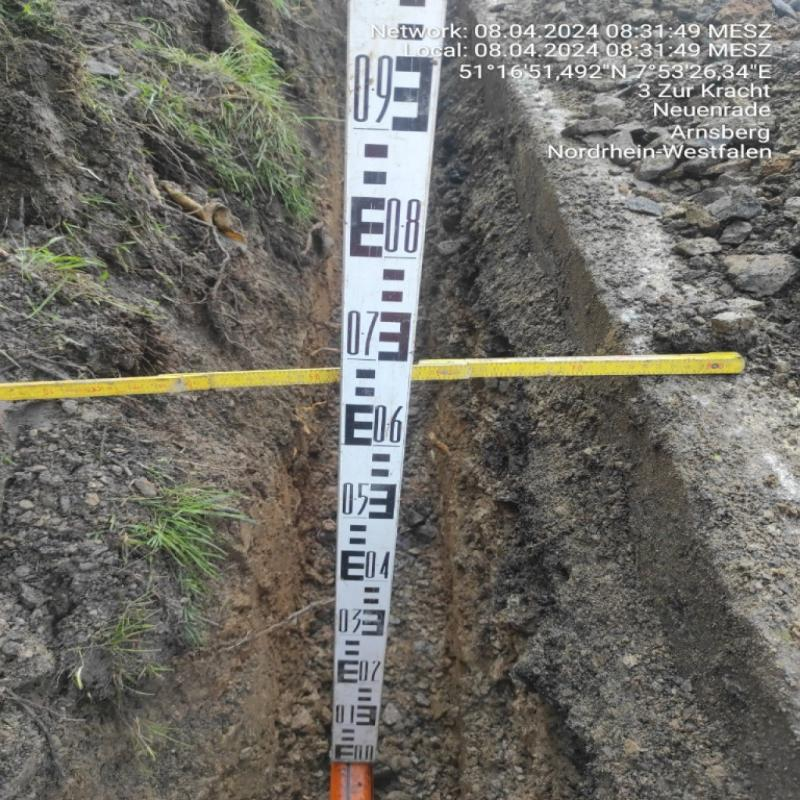Orang-Speednetrohrchen: (326, 760, 368, 800)
